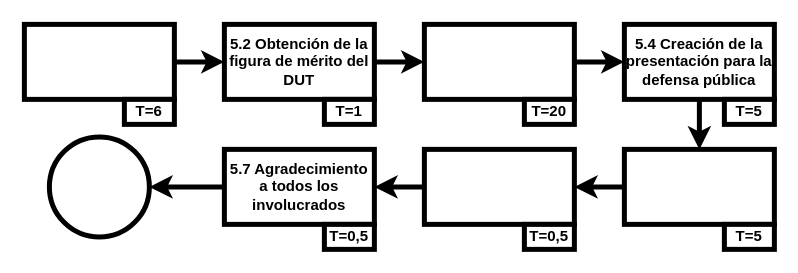
Some shapes in this 798 by 273 pixel diagram are drawn without their labels. Here are the shapes that lost their labels. From the top down, the centre of each, then its label:
At pixel 98 61: "5.1 Pruebas automáticas de todo el sistema".
At pixel 498 61: "5.3 Creación de la memoria del trabajo terminado".
At pixel 98 186: "FIN".
At pixel 498 186: "5.6 Defensa pública".
At pixel 698 186: "5.5 Creación del video para la defensa pública".
